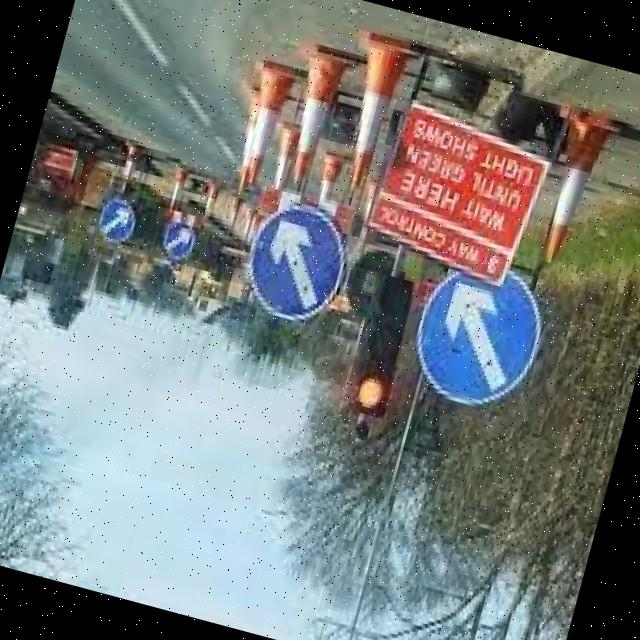compulsory_keep_right: (399, 248, 558, 425), (233, 188, 362, 337)
